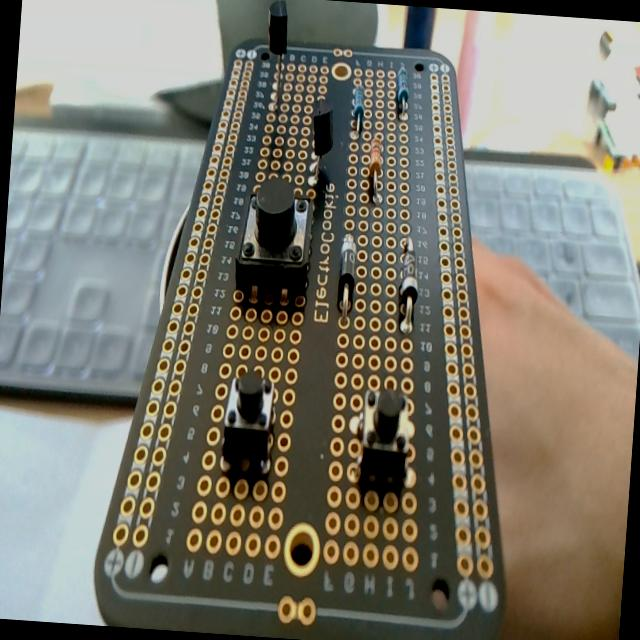diode: (396, 234, 422, 332), (335, 232, 357, 319)
resistor: (365, 132, 385, 204), (394, 62, 411, 116), (350, 88, 365, 138)
switch: (234, 178, 316, 308), (354, 383, 414, 489), (220, 368, 277, 477)
transistor: (261, 0, 292, 111), (306, 98, 336, 192)
